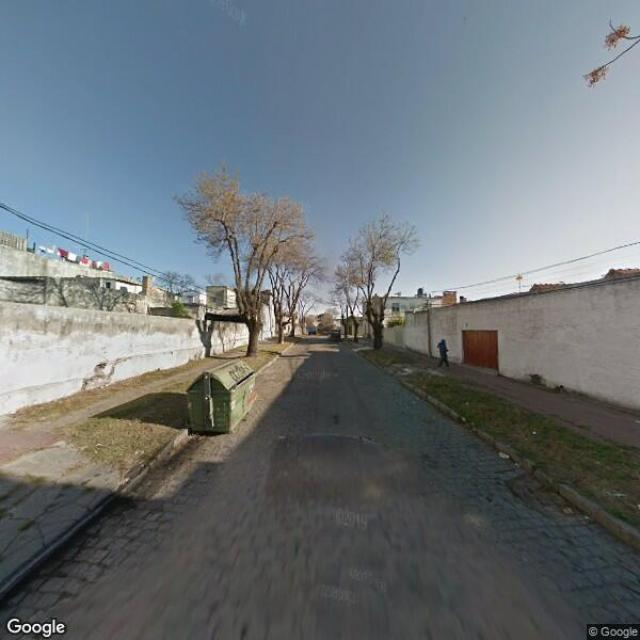garbage container: (185, 353, 266, 448)
